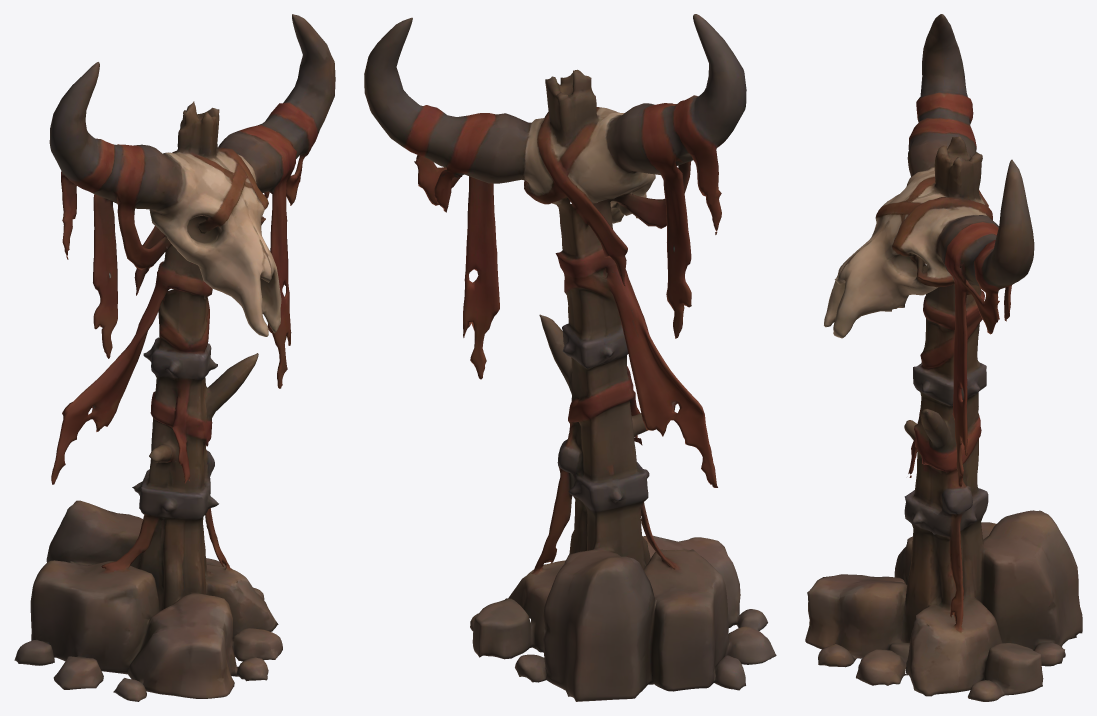
Rendered from cattle_skull_post.glb.
The picture shows the model from 3 angles, left to right: view 1: azimuth 30°, elevation 25°; view 2: azimuth 150°, elevation 25°; view 3: azimuth 270°, elevation 25°; orthographic projection. The views are drawn at different scales.
Visible parts, largest first — view 1: tripo_node_cdb75d65; view 2: tripo_node_cdb75d65; view 3: tripo_node_cdb75d65.
Boxes of the visible parts, x1,y1,x2,y2 form: tripo_node_cdb75d65: [14, 14, 335, 701]; tripo_node_cdb75d65: [364, 14, 776, 701]; tripo_node_cdb75d65: [805, 14, 1082, 701].
Bounding box in the file's own units: 57.69 × 99.12 × 41.6.
Materials: 1 (1 with a texture image).
